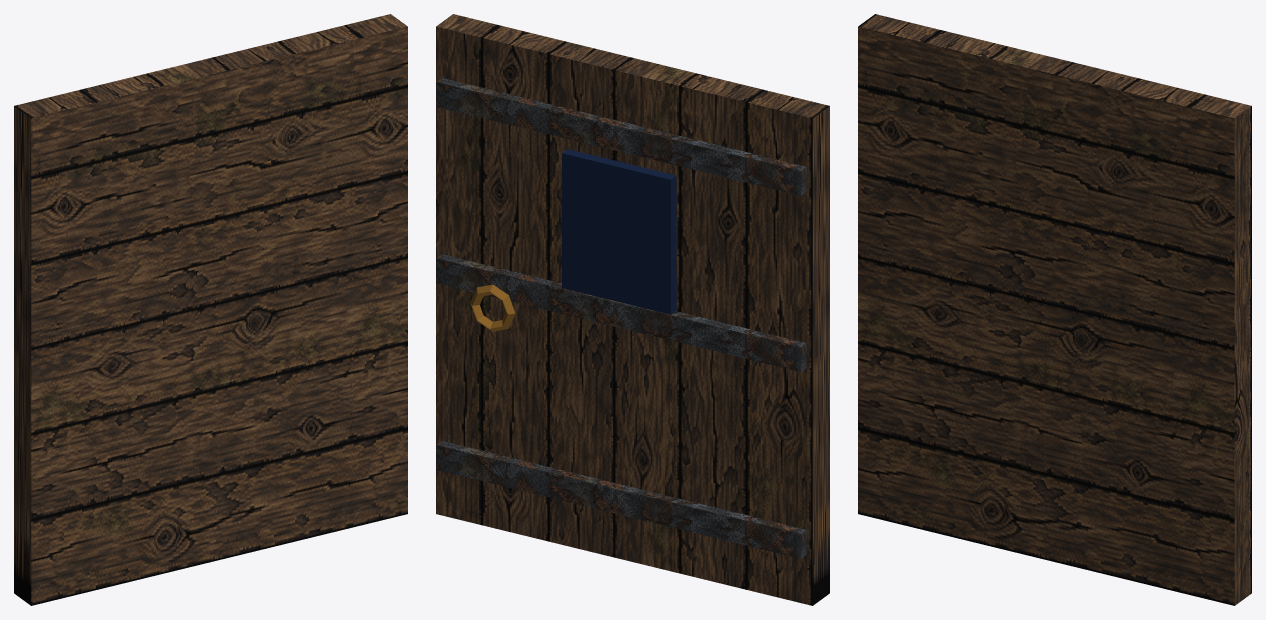
The model's file is D03_Porta_Premium.obj.
The picture shows the model from 3 angles, left to right: view 1: azimuth 30°, elevation 25°; view 2: azimuth 150°, elevation 25°; view 3: azimuth 330°, elevation 25°; orthographic projection.
Visible parts, largest first — view 1: D03_Porta_Premium; view 2: D03_Porta_Premium; view 3: D03_Porta_Premium.
Part boxes in pixels (x1,y1,x2,y2): D03_Porta_Premium: (14, 14, 407, 605); D03_Porta_Premium: (436, 14, 829, 605); D03_Porta_Premium: (858, 14, 1251, 605).
Bounding box in the file's own units: 1.9 × 2.35 × 0.249.
4 materials, 2 textured.
